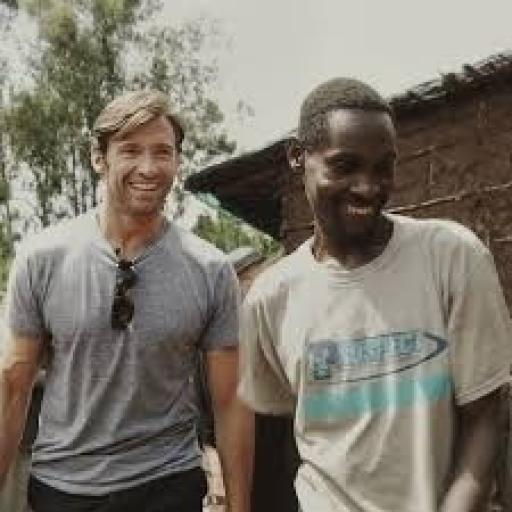laughing: (0, 66, 510, 510)
